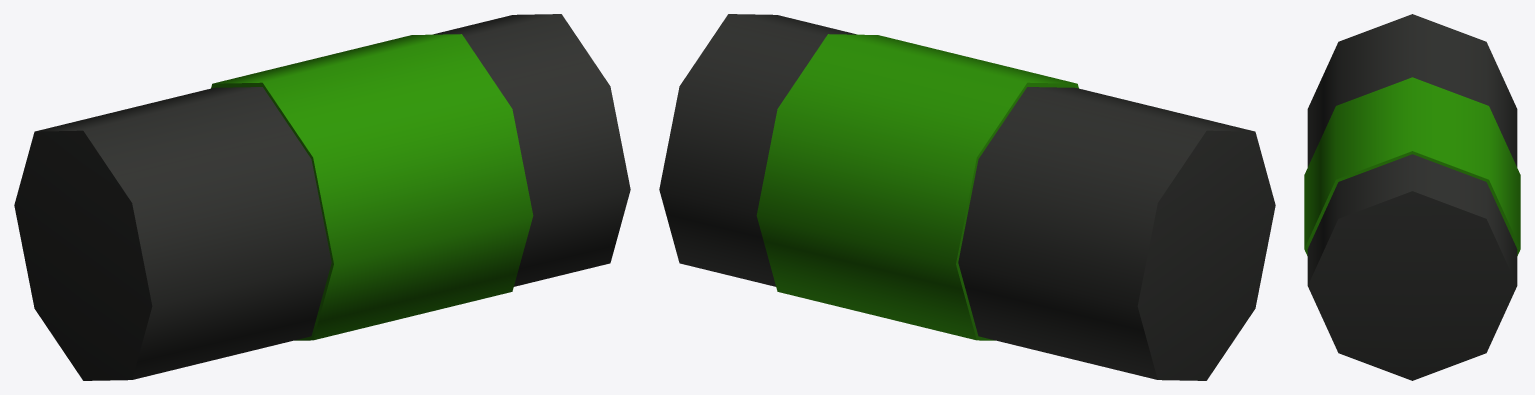
The model's file is nuclear-fuel.glb.
3 renders of one model, left to right at view 1: azimuth 30°, elevation 25°; view 2: azimuth 150°, elevation 25°; view 3: azimuth 270°, elevation 25°, orthographic. The views are drawn at different scales.
Visible parts, largest first — view 1: nuclear-fuel; view 2: nuclear-fuel; view 3: nuclear-fuel.
Part boxes in pixels (x1=…): nuclear-fuel: x1=14, y1=14, x2=630, y2=380; nuclear-fuel: x1=659, y1=14, x2=1275, y2=380; nuclear-fuel: x1=1304, y1=14, x2=1520, y2=380.
Bounding box in the file's own units: 0.24 × 0.124 × 0.124.
